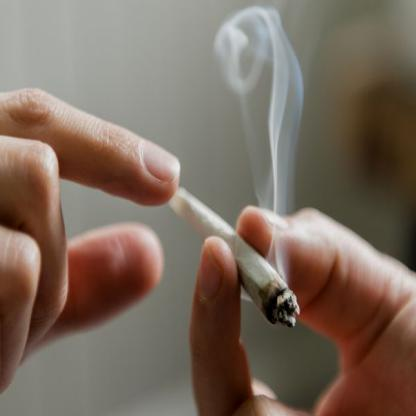cigarette: (169, 183, 298, 330)
smoke: (216, 9, 297, 216)
